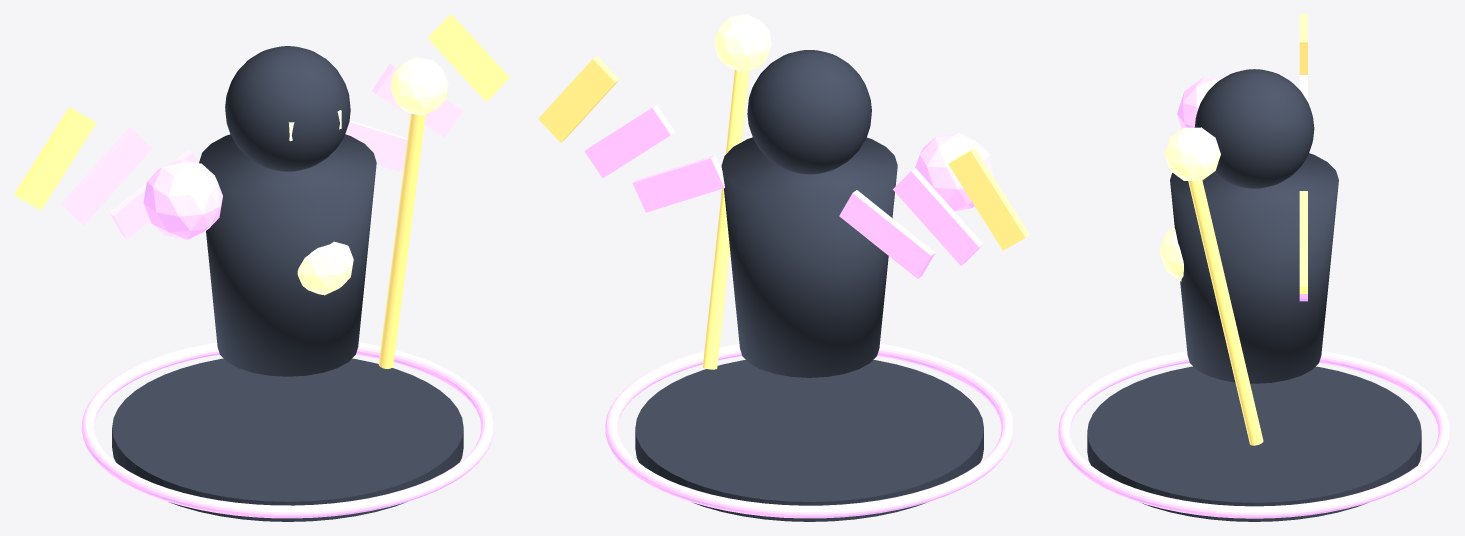
The model's file is aquila.glb.
3 views of the same model, side by side, from view 1: azimuth 30°, elevation 25°; view 2: azimuth 150°, elevation 25°; view 3: azimuth 270°, elevation 25° (orthographic). The views are drawn at different scales.
Visible parts, largest first — view 1: AbilityPedestal, AgentTorso, AgentHead, AbilityAuraRing, Pet_AQUILA, SignatureWeapon, Wing_-1_2, Wing_-1_1, Wing_1_2, WeaponApex, AgentCore, Wing_1_0 (+2 smaller); view 2: AbilityPedestal, AgentTorso, AgentHead, AbilityAuraRing, SignatureWeapon, Wing_-1_0, Wing_-1_1, Wing_-1_2, Wing_1_0, Wing_1_2, Wing_1_1, Pet_AQUILA (+1 smaller); view 3: AbilityPedestal, AgentTorso, AgentHead, AbilityAuraRing, SignatureWeapon, WeaponApex, Pet_AQUILA, Wing_1_2, AgentCore, Wing_-1_2.
Boxes of the visible parts, x1,y1,x2,y2 form: AbilityPedestal: (112, 358, 463, 521); AgentTorso: (199, 134, 376, 376); AgentHead: (225, 46, 350, 171); AbilityAuraRing: (81, 342, 493, 518); Pet_AQUILA: (143, 159, 222, 239); SignatureWeapon: (378, 113, 425, 368); Wing_-1_2: (14, 107, 96, 210); Wing_-1_1: (61, 127, 151, 225); Wing_1_2: (428, 14, 509, 101); WeaponApex: (390, 57, 448, 115); AgentCore: (297, 241, 353, 295); Wing_1_0: (345, 120, 407, 171); AbilityPedestal: (635, 360, 983, 521); AgentTorso: (721, 137, 897, 377); AgentHead: (747, 50, 871, 174); AbilityAuraRing: (605, 343, 1014, 518); SignatureWeapon: (702, 70, 749, 369); Wing_-1_0: (839, 190, 935, 278); Wing_-1_1: (893, 168, 983, 265); Wing_-1_2: (948, 148, 1029, 250); Wing_1_0: (632, 155, 724, 212); Wing_1_2: (538, 56, 619, 142); Wing_1_1: (584, 105, 674, 178); Pet_AQUILA: (915, 132, 993, 211); AbilityPedestal: (1087, 366, 1421, 521); AgentTorso: (1170, 153, 1338, 383); AgentHead: (1194, 69, 1314, 188); AbilityAuraRing: (1058, 351, 1450, 518); SignatureWeapon: (1188, 180, 1263, 445); WeaponApex: (1164, 127, 1220, 180); Pet_AQUILA: (1177, 77, 1224, 128); Wing_1_2: (1299, 191, 1307, 293); AgentCore: (1159, 227, 1183, 281); Wing_-1_2: (1299, 14, 1307, 74).
Bounding box in the file's own units: 3.07 × 2.36 × 2.23.
